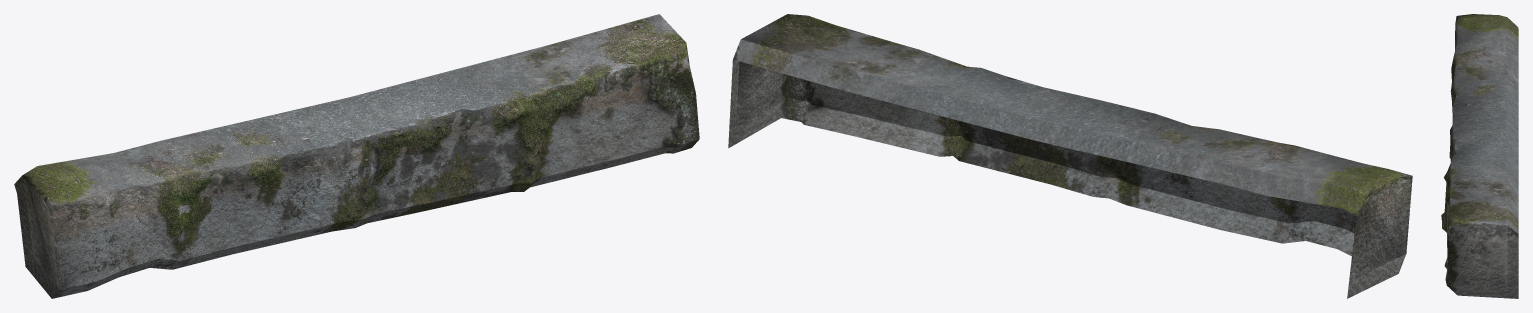
The model's file is beech_forest_stair_01_2.fbx.
3 views of the same model, side by side, from view 1: azimuth 30°, elevation 25°; view 2: azimuth 150°, elevation 25°; view 3: azimuth 270°, elevation 25° (orthographic). The views are drawn at different scales.
Parts seen in each view (by area): view 1: beech_forest_stair_01_2_beech_forest_stair_01_2_LOD0; view 2: beech_forest_stair_01_2_beech_forest_stair_01_2_LOD0; view 3: beech_forest_stair_01_2_beech_forest_stair_01_2_LOD0.
Boxes of the visible parts, x1,y1,x2,y2 form: beech_forest_stair_01_2_beech_forest_stair_01_2_LOD0: (14,14,699,298); beech_forest_stair_01_2_beech_forest_stair_01_2_LOD0: (728,14,1412,298); beech_forest_stair_01_2_beech_forest_stair_01_2_LOD0: (1441,14,1518,298).
Size of what is drawn, in the model's own units: 48.68 by 7.68 by 7.35.
